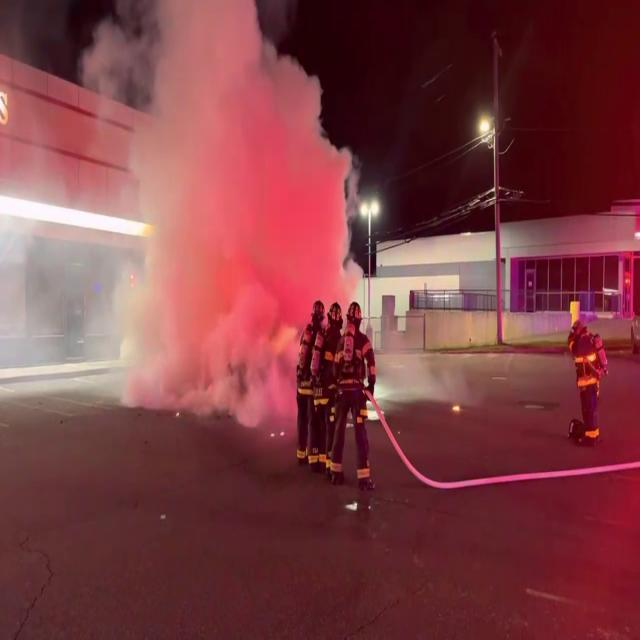Smoke: (47, 0, 366, 430)
